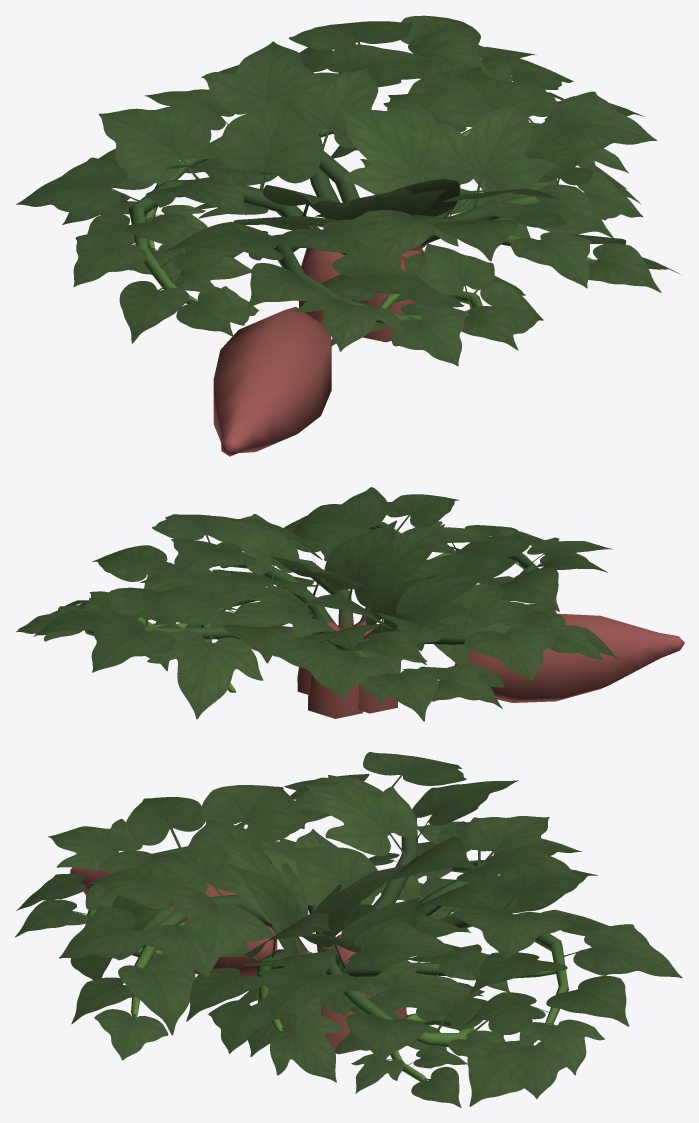
File: potato.fbx
3 renders of one model, top to bottom at view 1: azimuth 30°, elevation 25°; view 2: azimuth 150°, elevation 25°; view 3: azimuth 270°, elevation 25°, orthographic. The views are drawn at different scales.
Visible parts, largest first — view 1: seed_sweet_potato; view 2: seed_sweet_potato; view 3: seed_sweet_potato.
Part boxes in pixels (<box>): seed_sweet_potato: <box>16,15,679,456</box>; seed_sweet_potato: <box>16,487,684,721</box>; seed_sweet_potato: <box>15,752,682,1107</box>.
Size of the model in its own units: 102 by 32.39 by 99.56.
Materials: 1 (1 with a texture image).
